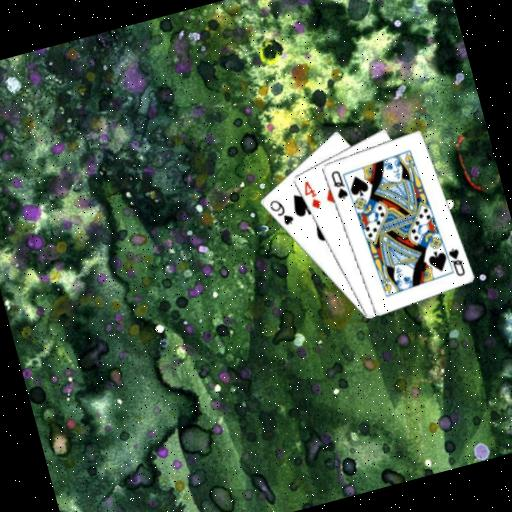4D: (298, 176, 323, 213)
9S: (265, 192, 296, 229)
QS: (326, 166, 350, 203), (444, 243, 467, 278)
